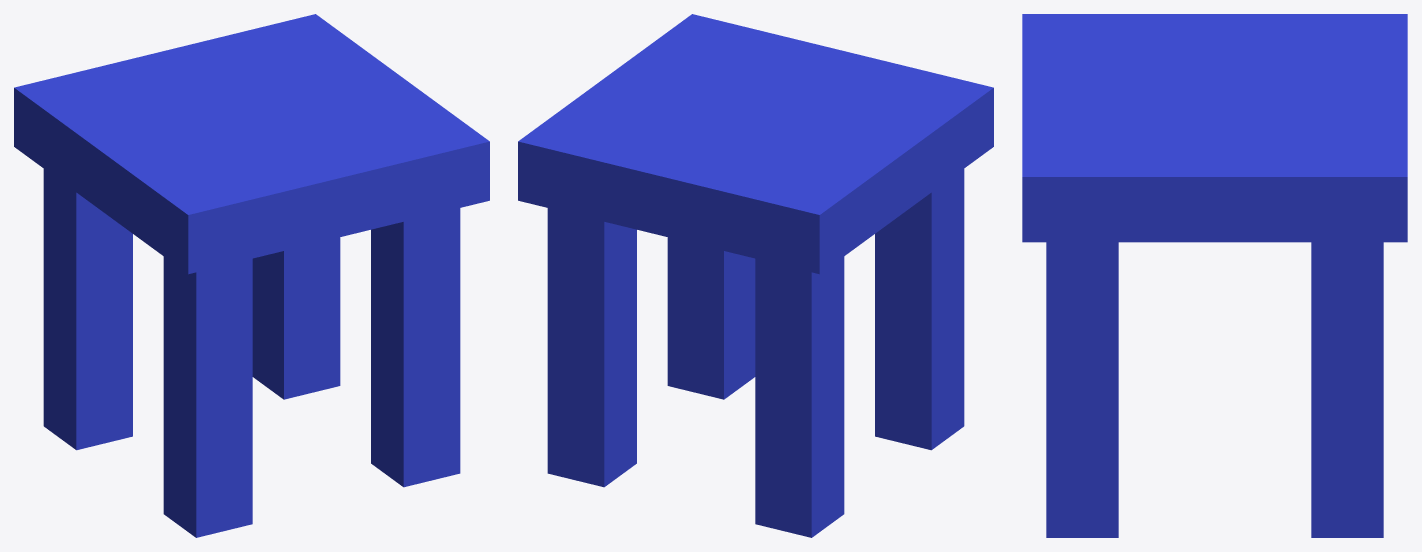
The model's file is stool_m1.fbx.
3 views of the same model, side by side, from view 1: azimuth 30°, elevation 25°; view 2: azimuth 150°, elevation 25°; view 3: azimuth 270°, elevation 25° (orthographic). The views are drawn at different scales.
Visible parts, largest first — view 1: Cube.003; view 2: Cube.003; view 3: Cube.003.
Boxes of the visible parts, bbox=[...] form: Cube.003: bbox=[14, 14, 489, 537]; Cube.003: bbox=[518, 14, 993, 537]; Cube.003: bbox=[1022, 14, 1407, 537].
Bounding box in the file's own units: 1.6 × 1.7 × 1.6.
